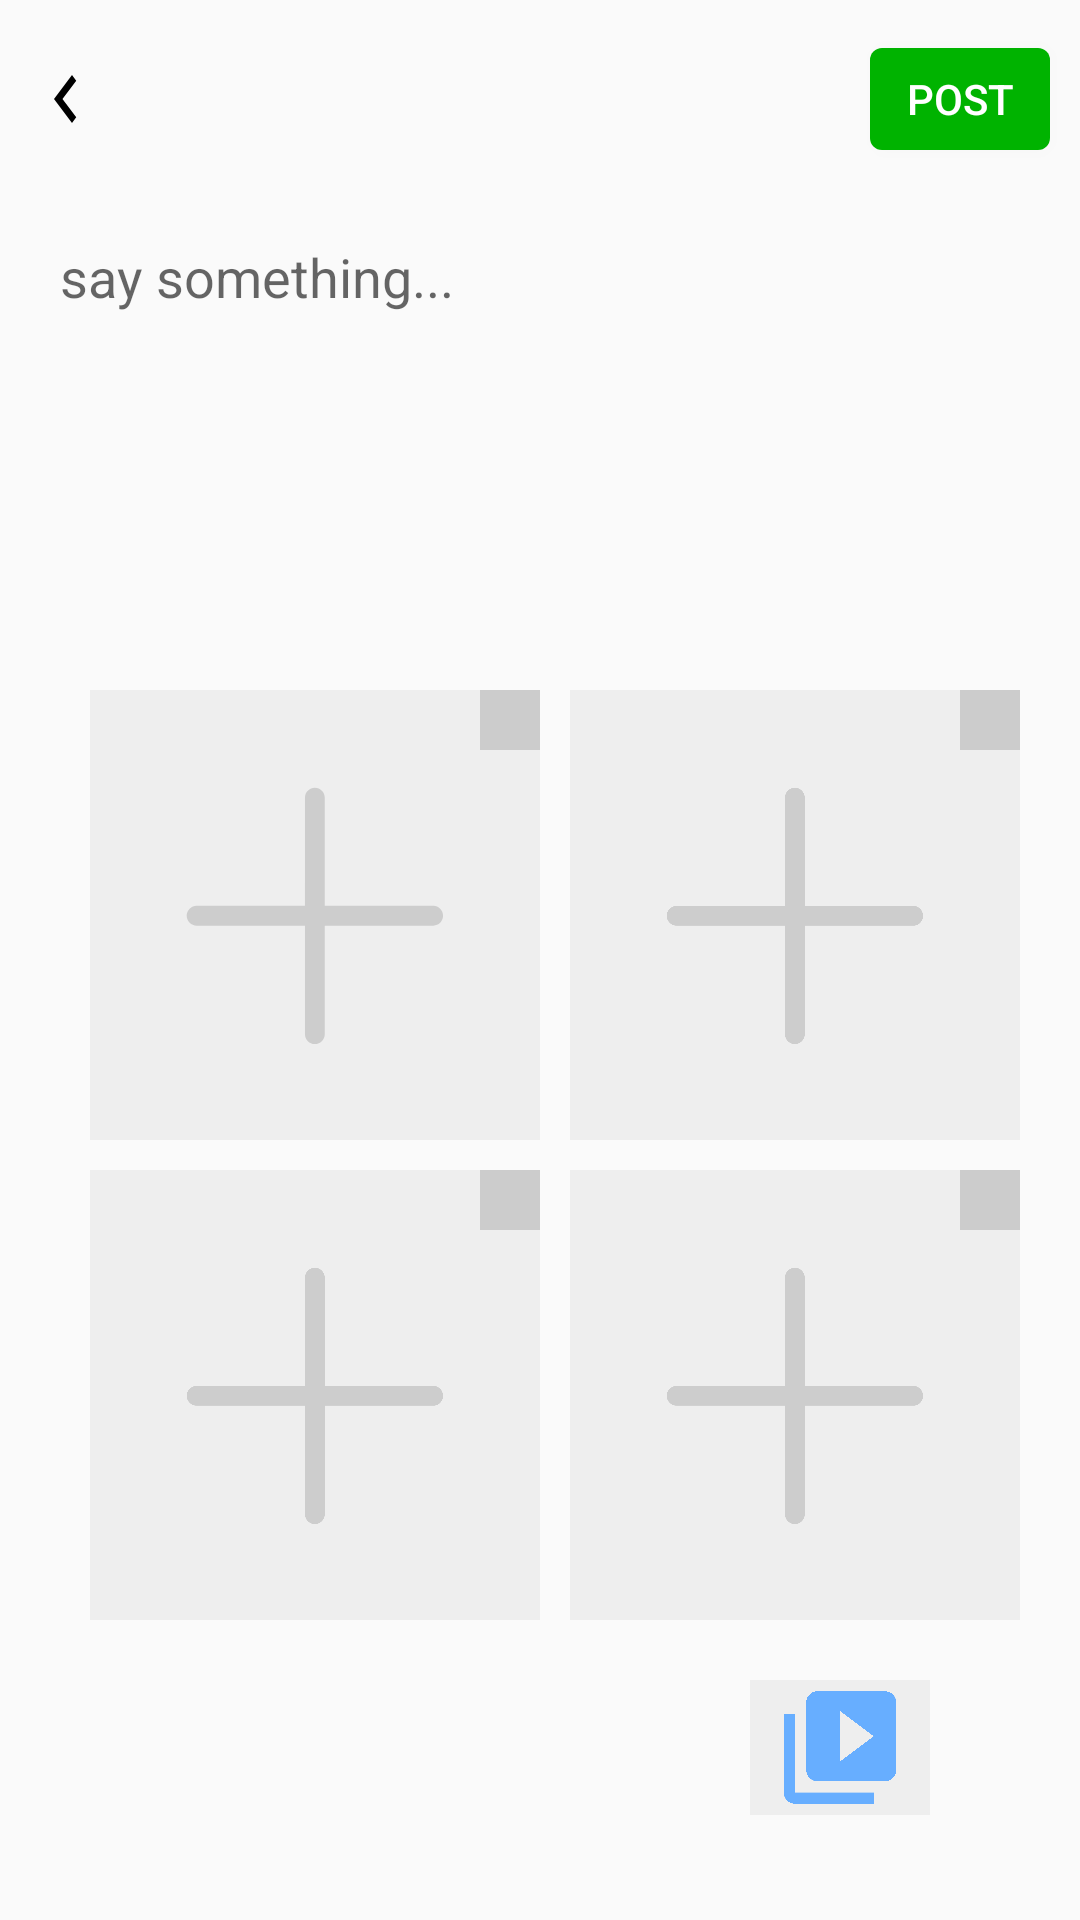

Screen size 1080×1920. Icon name, then its box in pixels as [x1, y1, x2, y2]:
keyboard arrow left: [54, 75, 76, 123]
video library: [784, 1691, 896, 1804]
